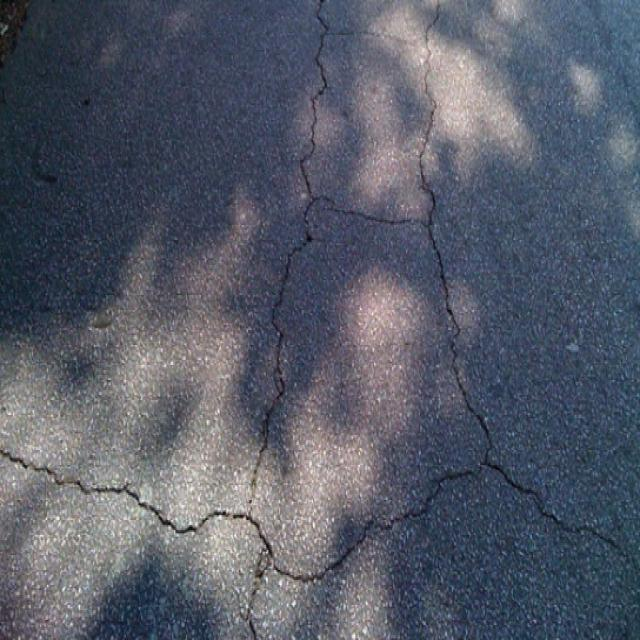crack: (1, 447, 619, 637), (261, 3, 496, 450)
